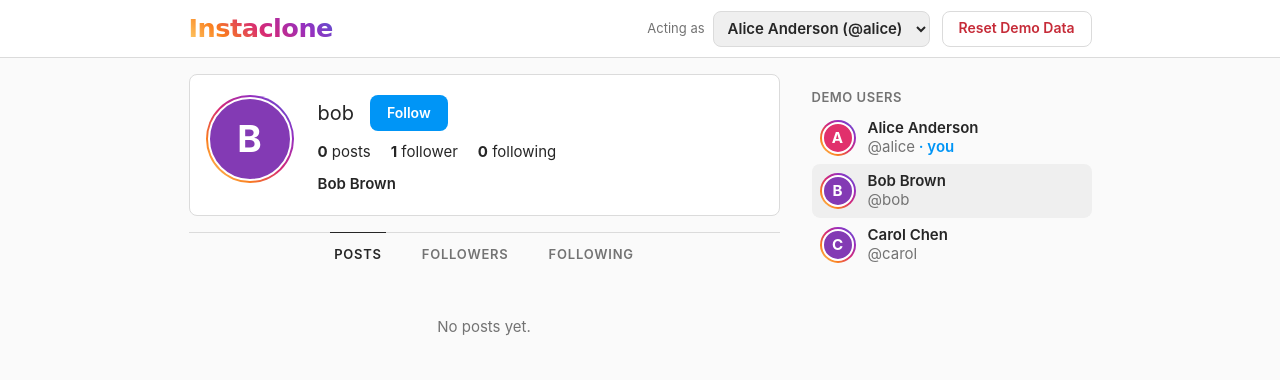
Test case: profiles and following › lists followers in the followers tab
Click the tab "Followers" at (465, 254), box x1=418 y1=232 x2=513 y2=276
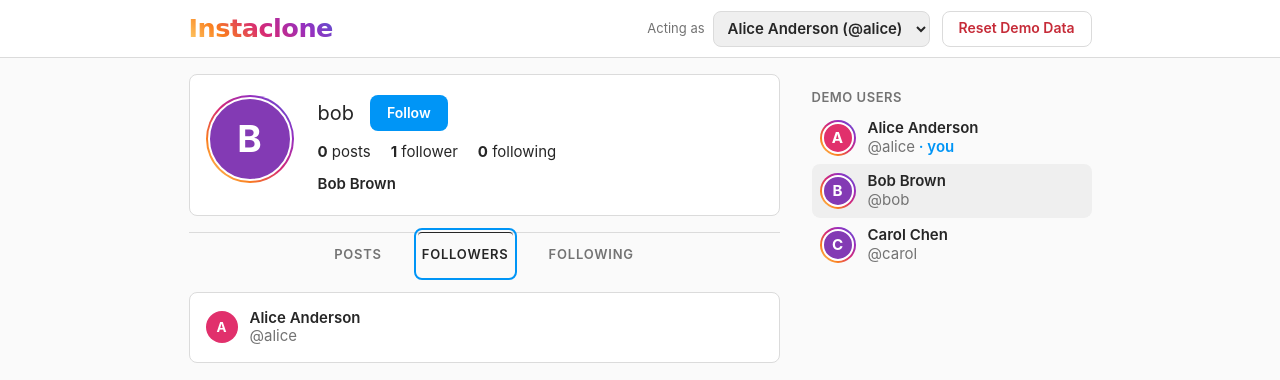
Expected: the 2nd text "Alice Anderson" is shown, x1=250 y1=309 x2=360 y2=327
